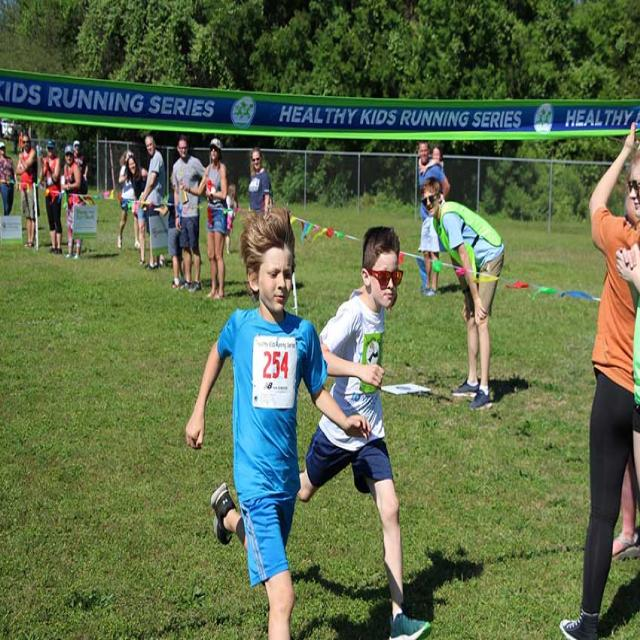Person: (186, 208, 372, 640), (297, 225, 432, 640), (422, 180, 503, 411), (182, 140, 228, 297), (172, 139, 206, 292)
